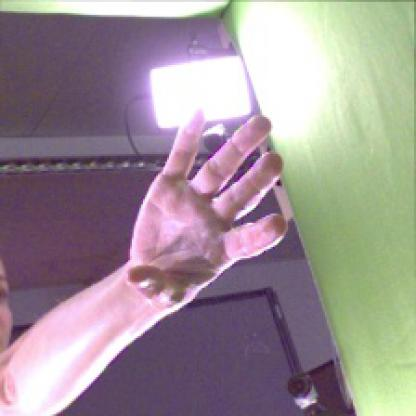Hand: (125, 108, 288, 306)
